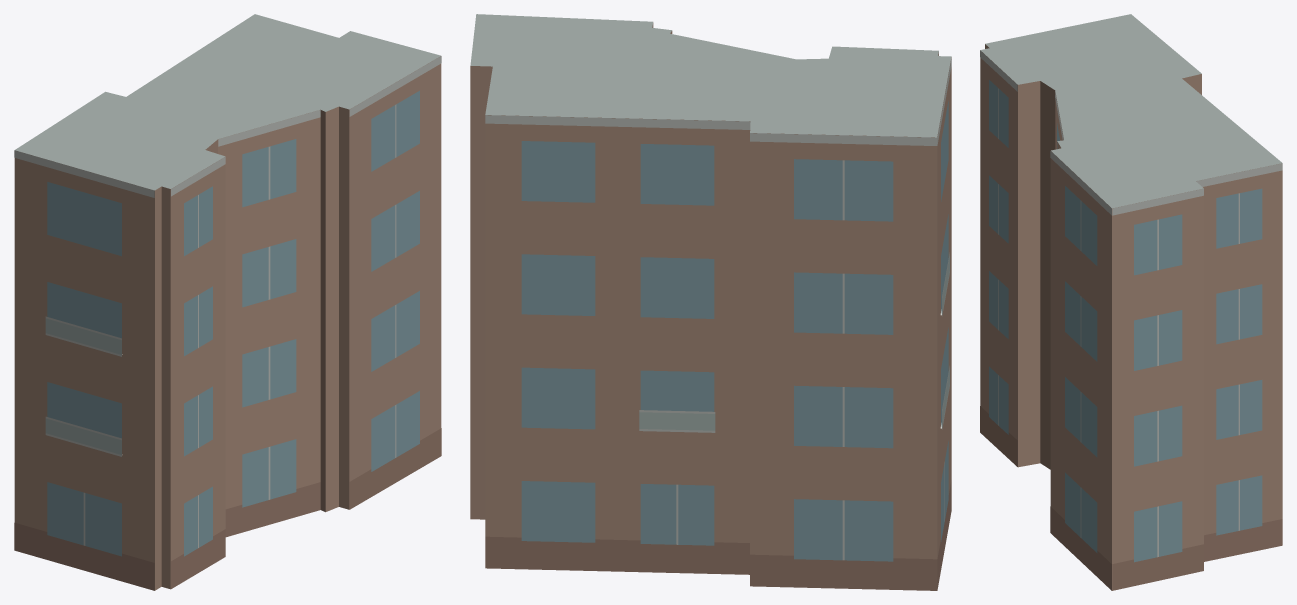
Rendered from survey-upis-32988183.glb.
The picture shows the model from 3 angles, left to right: view 1: azimuth 30°, elevation 25°; view 2: azimuth 150°, elevation 25°; view 3: azimuth 270°, elevation 25°; orthographic projection. The views are drawn at different scales.
Parts seen in each view (by area): view 1: survey-upis-32988183.tmp; view 2: survey-upis-32988183.tmp; view 3: survey-upis-32988183.tmp.
Boxes of the visible parts, box(x1,y1,x2,y2) form: survey-upis-32988183.tmp: box(14, 14, 441, 590); survey-upis-32988183.tmp: box(470, 14, 951, 590); survey-upis-32988183.tmp: box(980, 14, 1282, 590).
Size of the model in its own units: 13.96 by 12.8 by 9.19.
